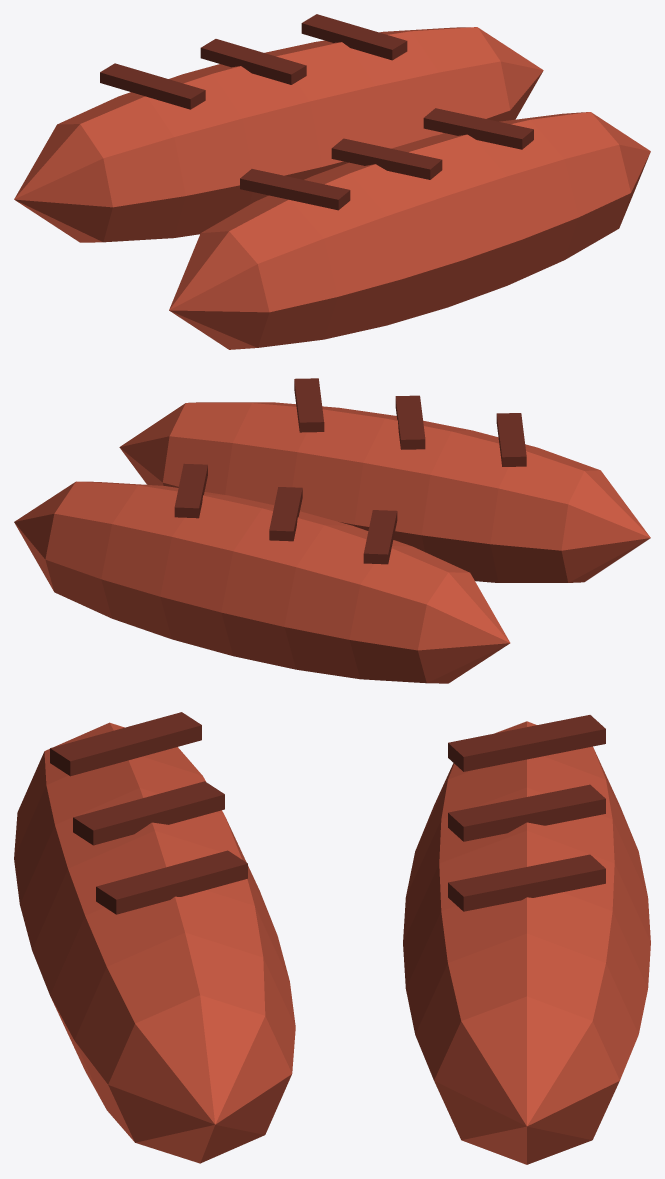
Rendered from Food_Sausage.obj.
3 views of the same model, one above another, from view 1: azimuth 30°, elevation 25°; view 2: azimuth 150°, elevation 25°; view 3: azimuth 270°, elevation 25° (orthographic). The views are drawn at different scales.
Size of the model in its own units: 2.1 by 0.62 by 1.54.
